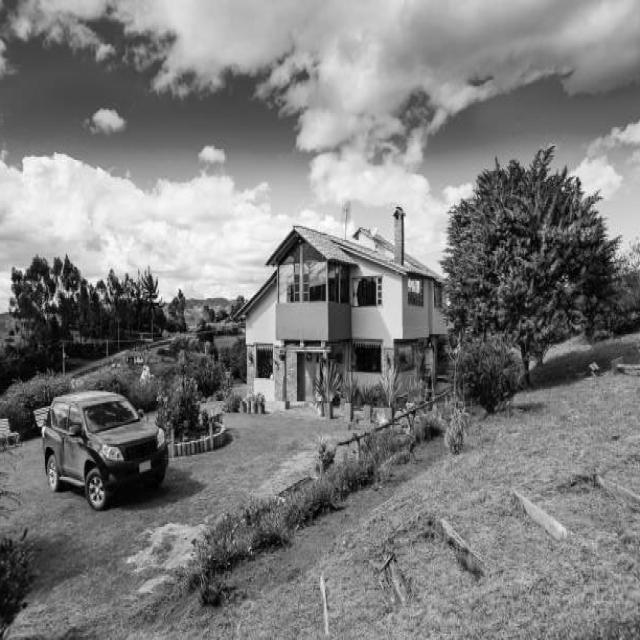Fachada: (236, 207, 447, 403)
